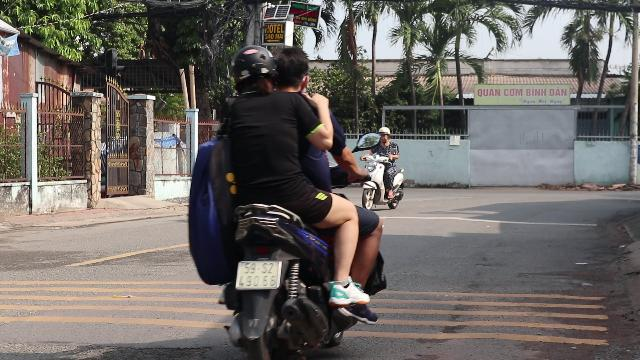helmet: (228, 45, 278, 95)
licenseplate: (236, 260, 280, 288)
motorcyclist: (182, 42, 394, 358)
nohelmet: (273, 46, 311, 92)
